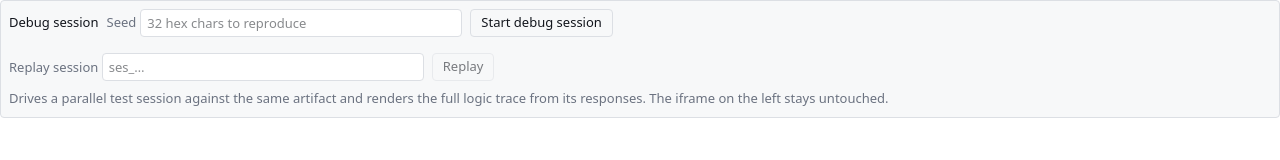
Test: DebugPanel replay › the button is refused until the id is a real session id
Expected: the button with test id "debug-replay-start" is disabled, [432,53,494,81]
Type "not-a-session" into the field with test id "debug-replay-id" at (263, 67), box [102,53,424,81]
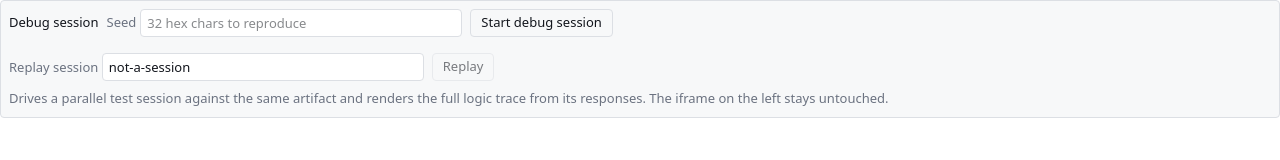
Expected: the button with test id "debug-replay-start" is disabled, [432,53,494,81]
Replace the text in the field with test id "debug-replay-id" with "ses_01HQ8ZG7VYABCDEFGHJKMNPQRS" at (263, 67), box [102,53,424,81]
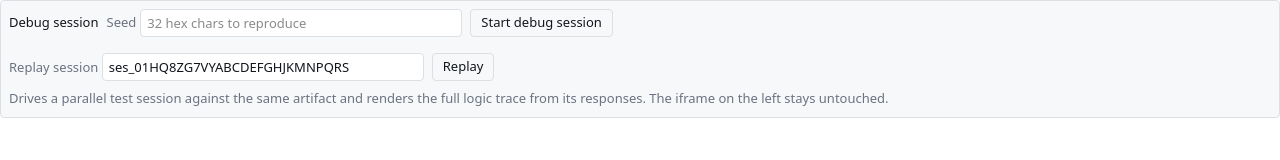
Result: the button with test id "debug-replay-start" is enabled at [432,53,494,81]
